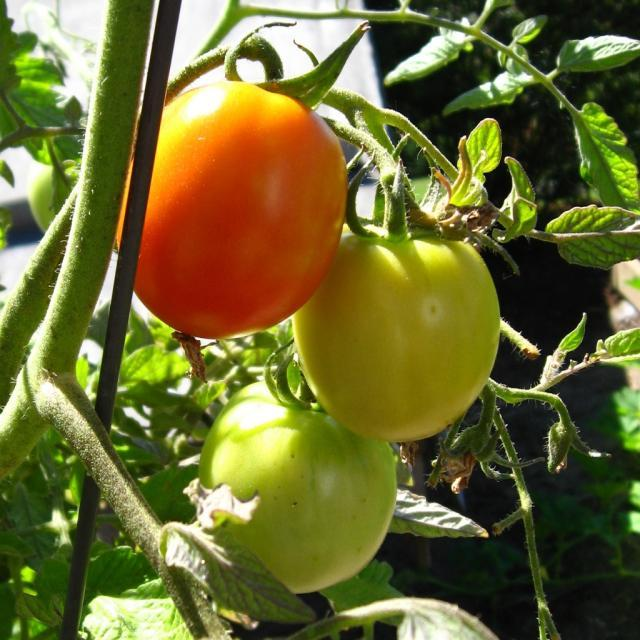Tomato: (139, 74, 353, 355), (293, 176, 504, 450), (197, 342, 402, 595)
